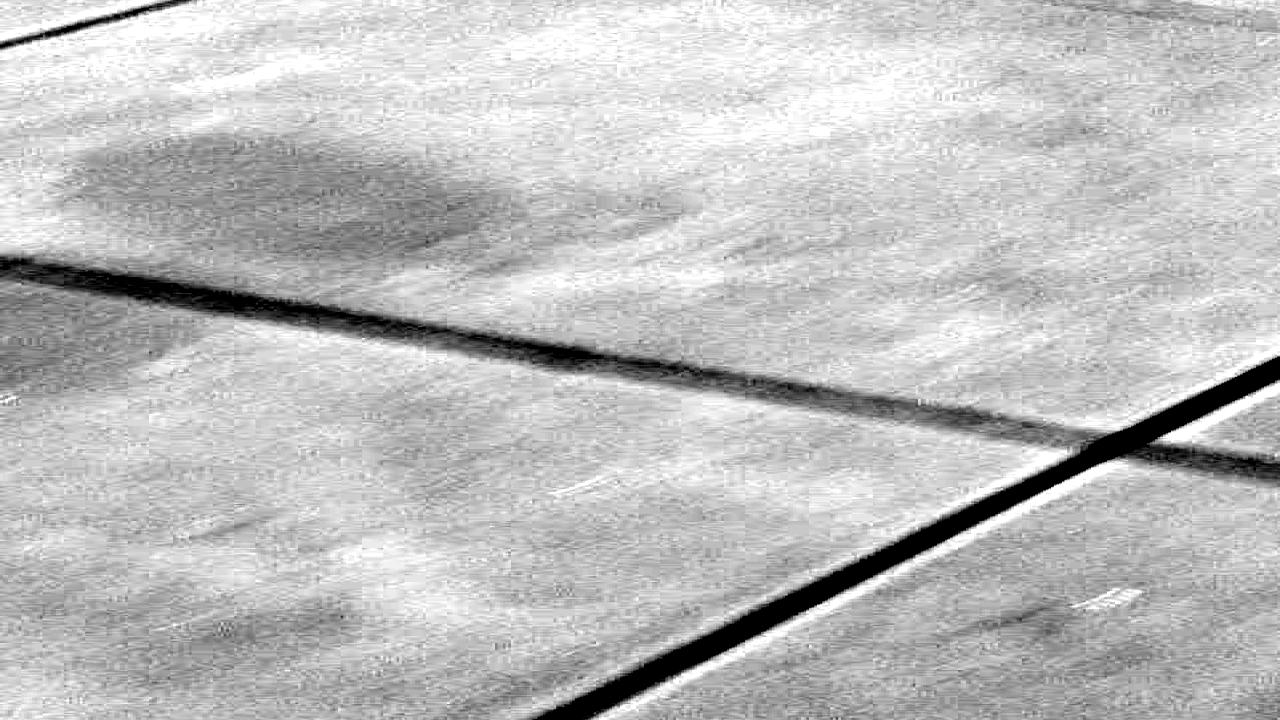Water Stains: (7, 110, 539, 278), (0, 260, 213, 417)
